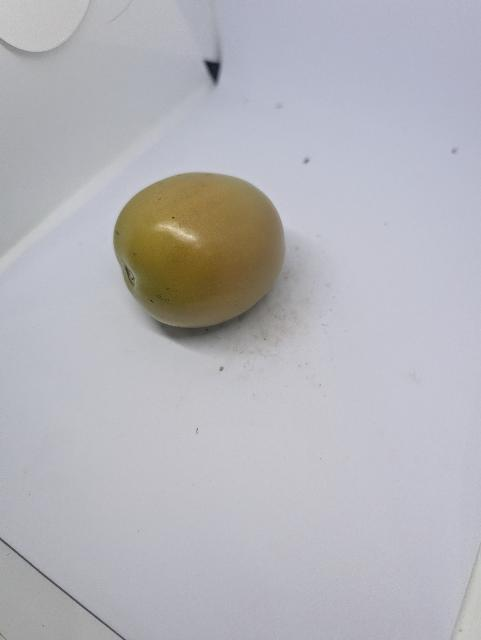breaker: (111, 167, 290, 337)
